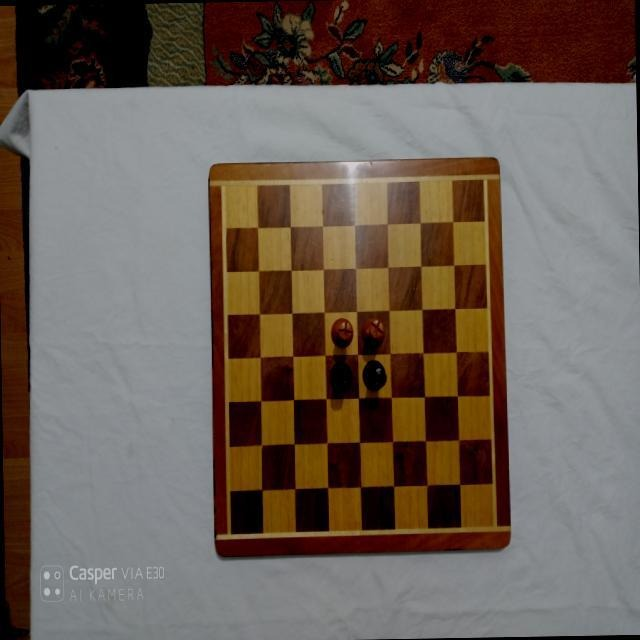black-rook: (327, 359, 352, 392), (361, 358, 386, 389)
white-rook: (329, 316, 354, 348), (359, 316, 384, 348)
